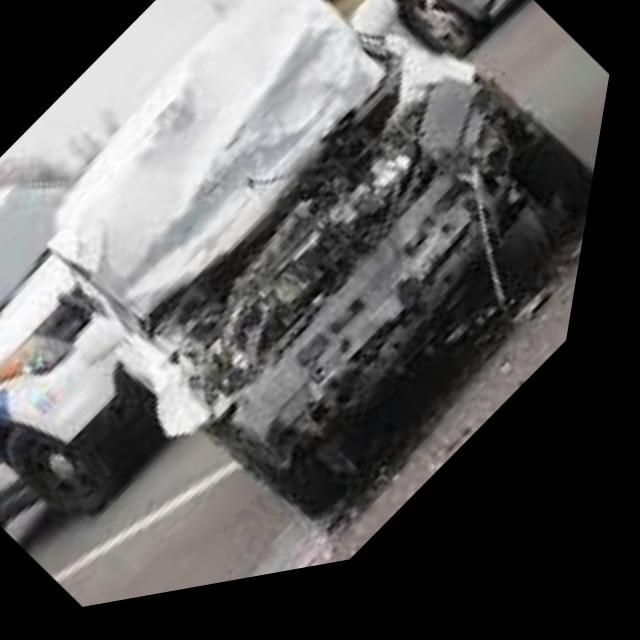crash: (58, 0, 540, 489)
